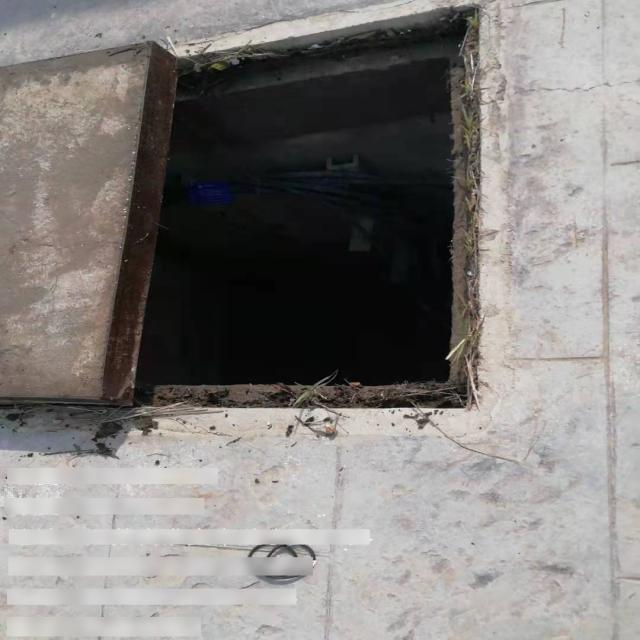Faulty: (6, 0, 474, 410)
